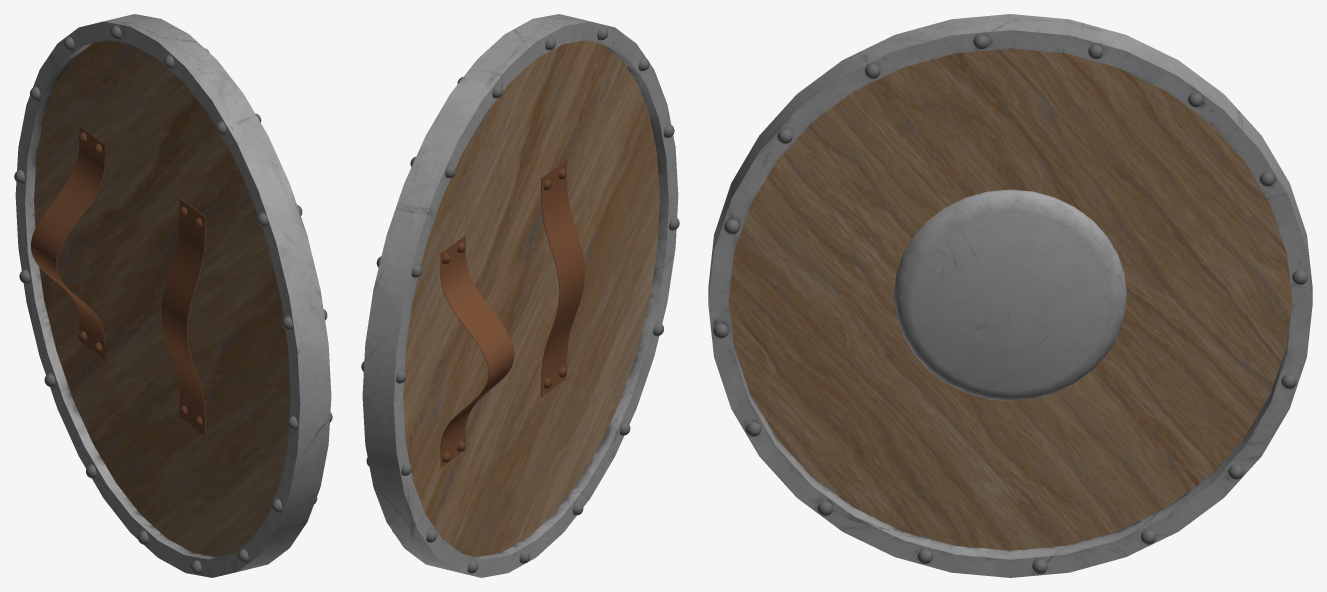
The model's file is Shield 1 met handvat.fbx.
3 renders of one model, left to right at view 1: azimuth 30°, elevation 25°; view 2: azimuth 150°, elevation 25°; view 3: azimuth 270°, elevation 25°, orthographic. The views are drawn at different scales.
Visible parts, largest first — view 1: Circle.007; view 2: Circle.007; view 3: Circle.007.
Part boxes in pixels (box(x1,y1,x2,y2)): Circle.007: box(14, 14, 332, 577); Circle.007: box(361, 14, 679, 577); Circle.007: box(708, 14, 1312, 577).
Bounding box in the file's own units: 31.47 × 200 × 200.
